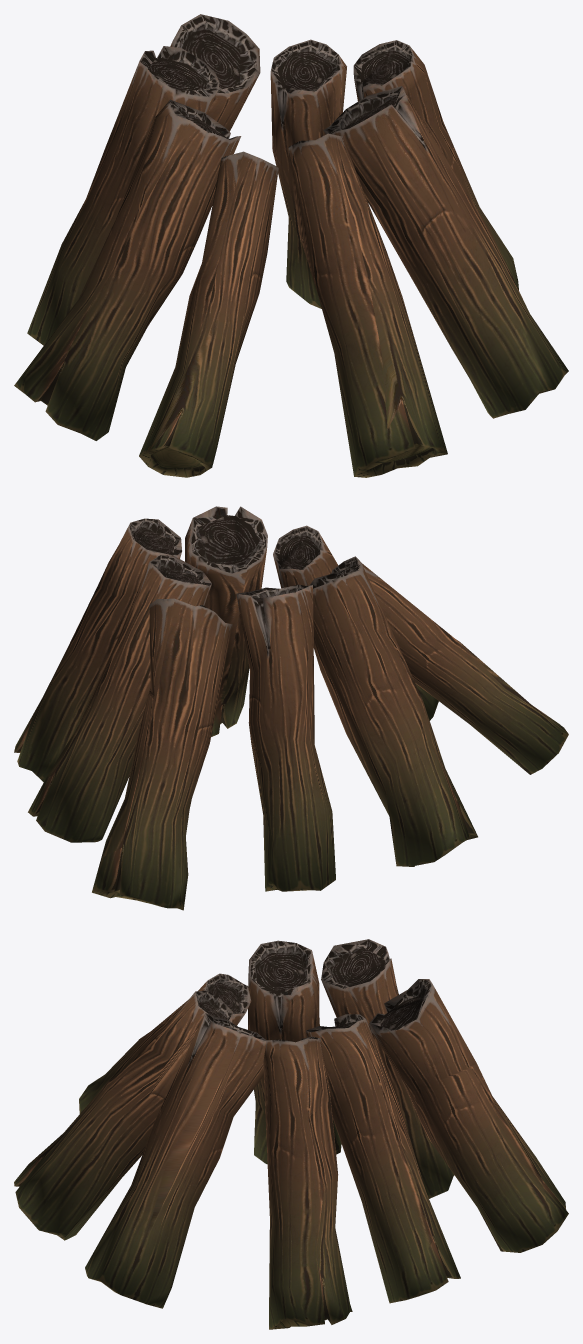
Rendered from Logs1.fbx.
The picture shows the model from 3 angles, top to bottom: view 1: azimuth 30°, elevation 25°; view 2: azimuth 150°, elevation 25°; view 3: azimuth 270°, elevation 25°; orthographic projection. The views are drawn at different scales.
Parts seen in each view (by area): view 1: log_low1; view 2: log_low1; view 3: log_low1.
Part boxes in pixels (x1=…): log_low1: x1=14, y1=14, x2=568, y2=477; log_low1: x1=14, y1=506, x2=568, y2=910; log_low1: x1=14, y1=939, x2=568, y2=1329.
Size of the model in its own units: 571 by 343 by 640.
Materials: 1 (1 with a texture image).
